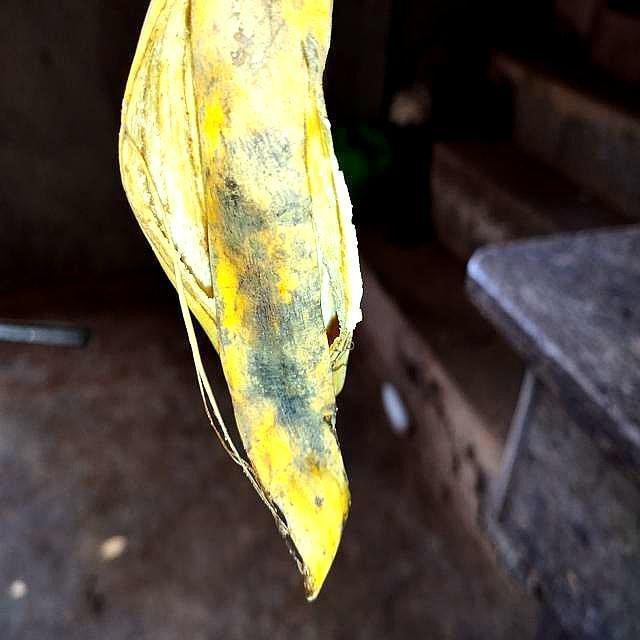Biodegradable: (113, 1, 363, 597)
